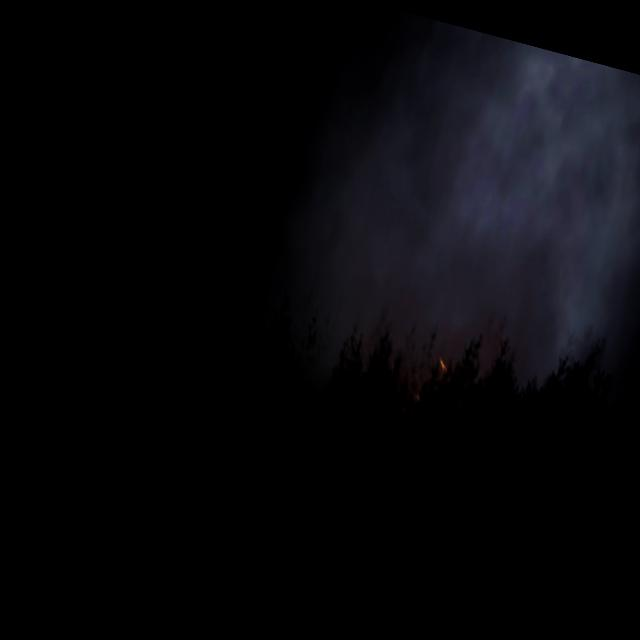smoke: (210, 0, 640, 478)
